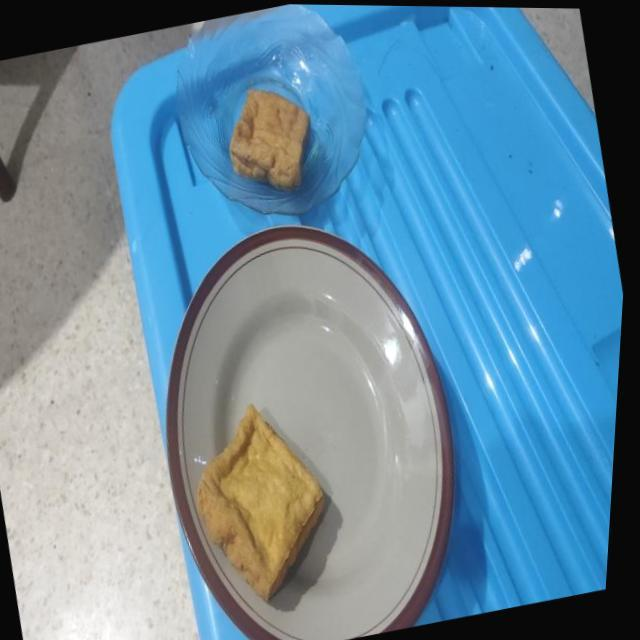tahu_goreng: (196, 403, 323, 601), (229, 88, 310, 190)
